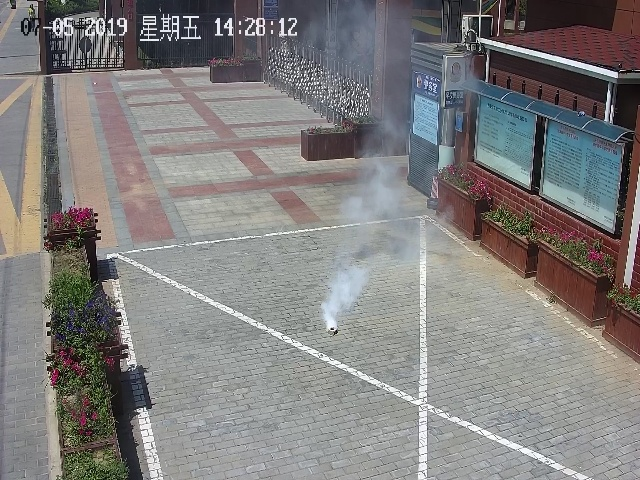yanwu: (310, 204, 378, 324)
